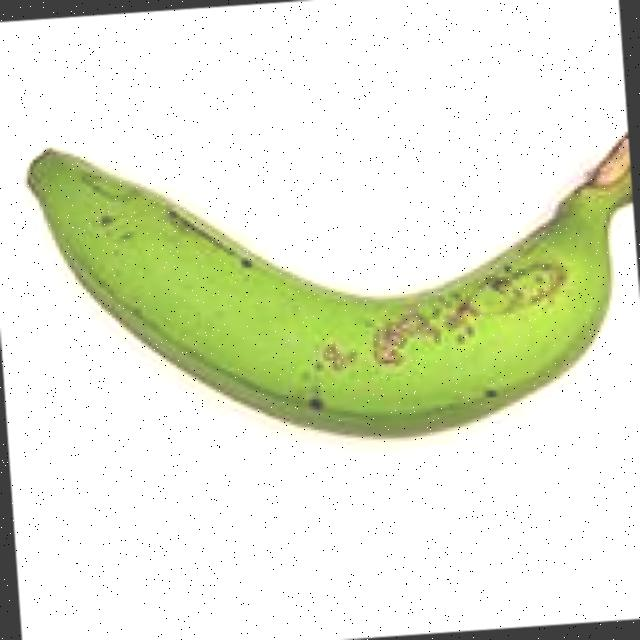Raw: (11, 56, 640, 469)
